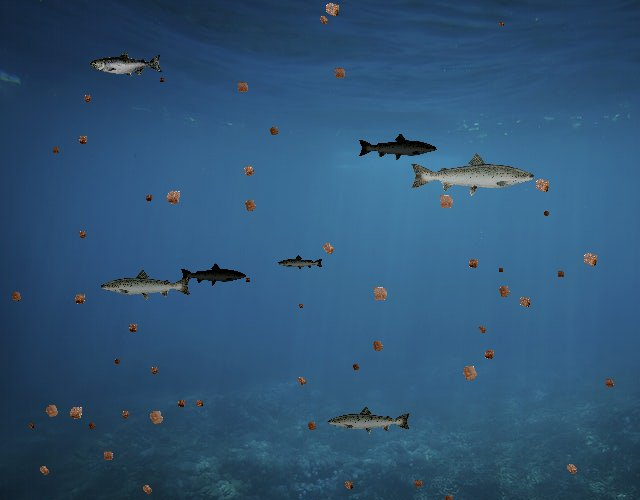Fish: (408, 151, 537, 197), (99, 269, 193, 303), (326, 405, 412, 436), (357, 132, 438, 161), (90, 52, 163, 78), (179, 263, 247, 287), (277, 254, 324, 271)
Pellet: (159, 183, 187, 211), (316, 236, 340, 260), (238, 193, 262, 217), (237, 160, 260, 183), (6, 287, 27, 308), (74, 226, 90, 242), (540, 207, 553, 220), (25, 419, 37, 431)
